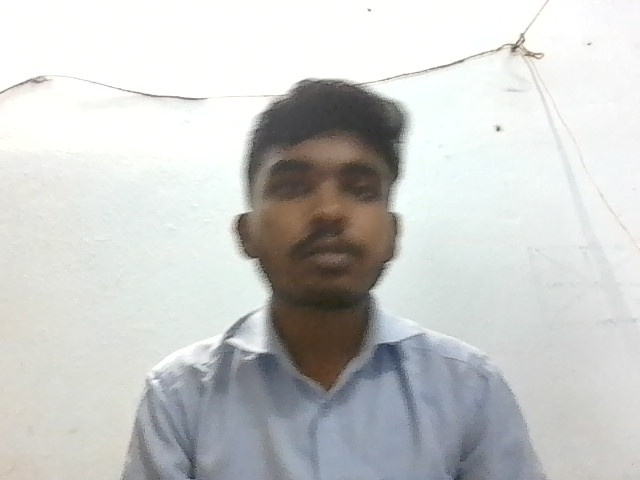real: (236, 69, 412, 318)
